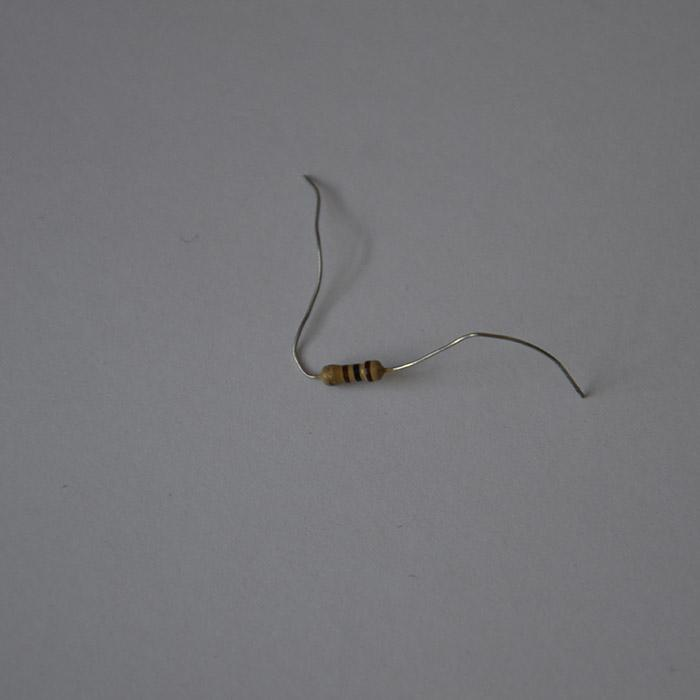resistor: (320, 359, 386, 385)
